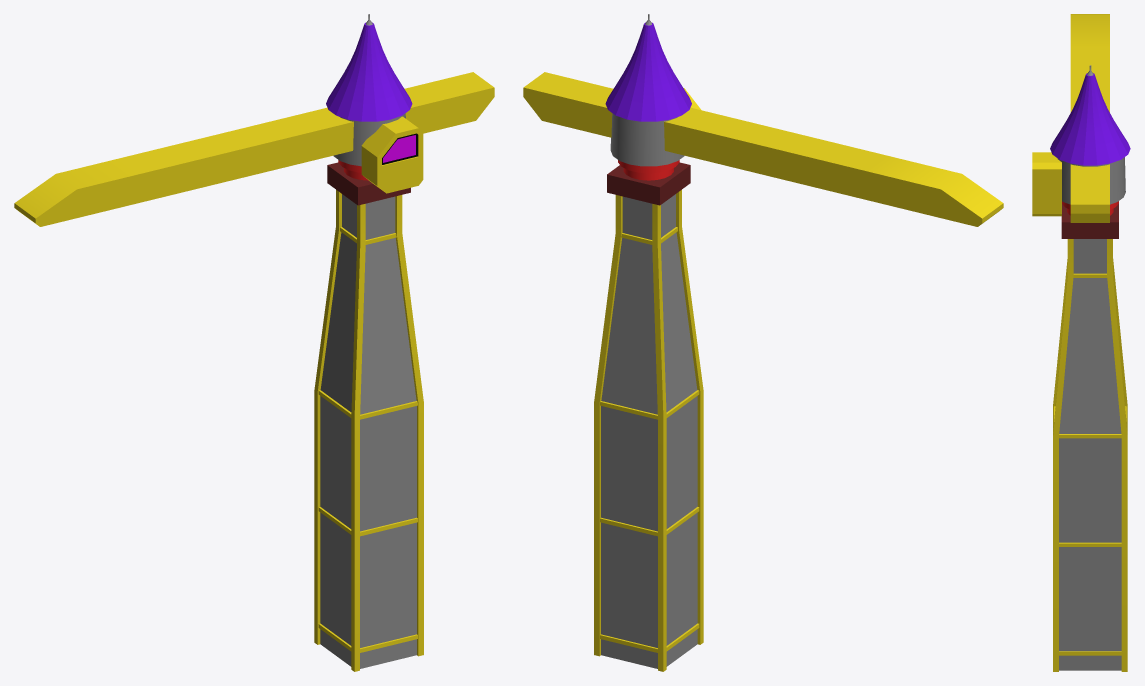
File: Crane02.FBX
The picture shows the model from 3 angles, left to right: view 1: azimuth 30°, elevation 25°; view 2: azimuth 150°, elevation 25°; view 3: azimuth 270°, elevation 25°; orthographic projection. The views are drawn at different scales.
Parts seen in each view (by area): view 1: tower, crane, top; view 2: tower, crane, top; view 3: tower, top, crane.
Part boxes in pixels (left/top/right/bottom): tower: left=314, top=162, right=423, bottom=671; crane: left=14, top=72, right=494, bottom=226; top: left=326, top=14, right=423, bottom=193; tower: left=594, top=162, right=703, bottom=671; crane: left=523, top=72, right=1003, bottom=226; top: left=605, top=14, right=701, bottom=180; tower: left=1053, top=204, right=1127, bottom=671; top: left=1032, top=65, right=1130, bottom=216; crane: left=1070, top=14, right=1109, bottom=222.
Bounding box in the file's own units: 2500 × 499 × 3303.
